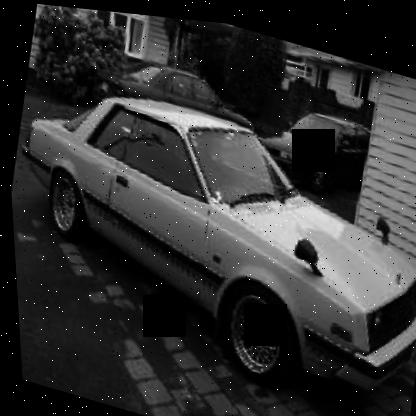not_emergency: (3, 68, 415, 409)
